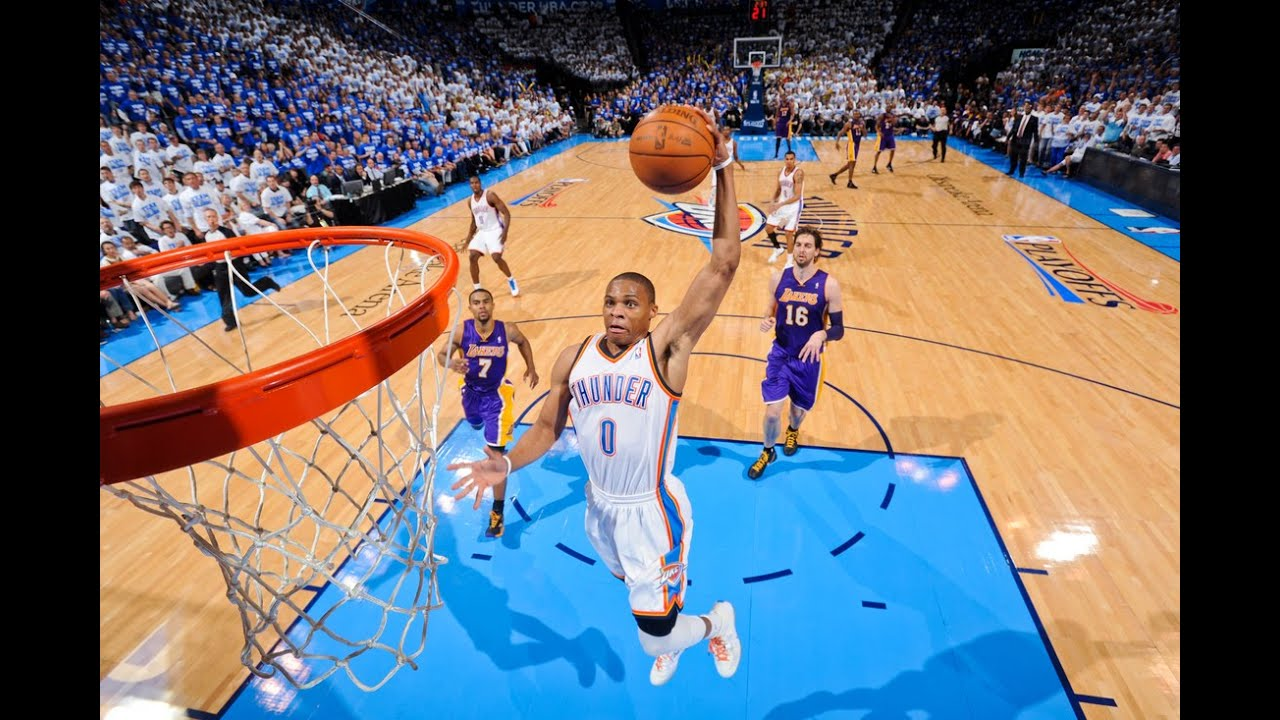basket: (97, 212, 474, 701)
shoot: (515, 90, 754, 701)
